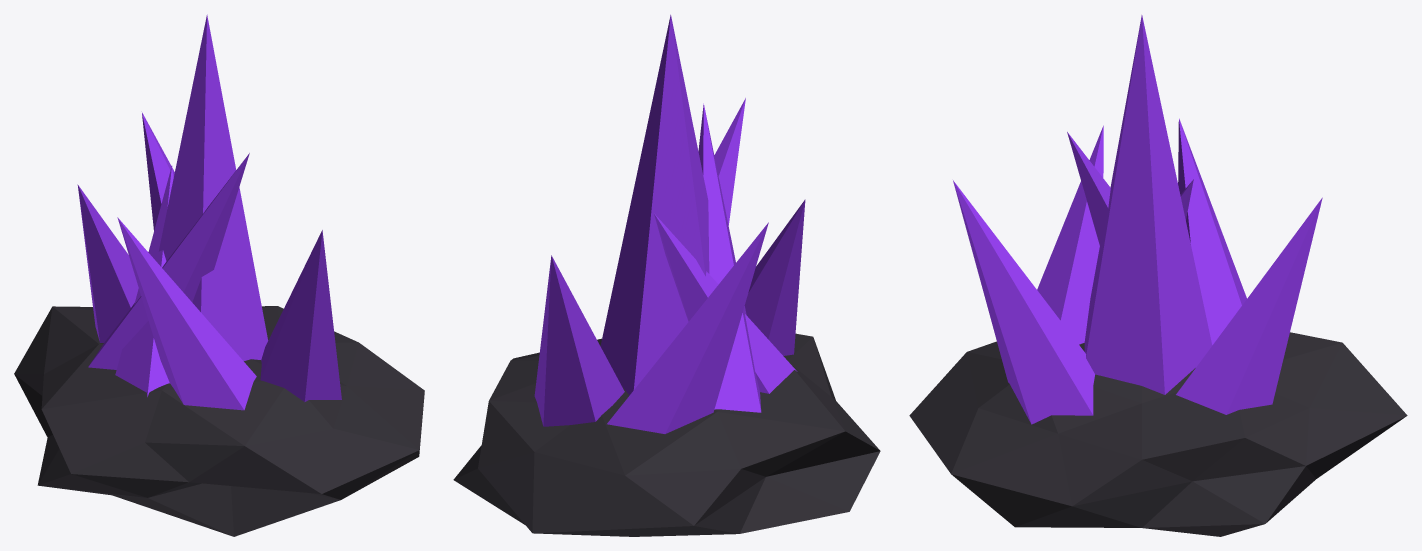
File: crystal.glb
3 renders of one model, left to right at view 1: azimuth 30°, elevation 25°; view 2: azimuth 150°, elevation 25°; view 3: azimuth 270°, elevation 25°, orthographic. The views are drawn at different scales.
Parts seen in each view (by area): view 1: Crystal; view 2: Crystal; view 3: Crystal.
Boxes of the visible parts, <box> form: Crystal: <box>14,14,424,536</box>; Crystal: <box>453,14,880,536</box>; Crystal: <box>909,15,1407,536</box>.
Bounding box in the file's own units: 2.52 × 3.31 × 3.04.
